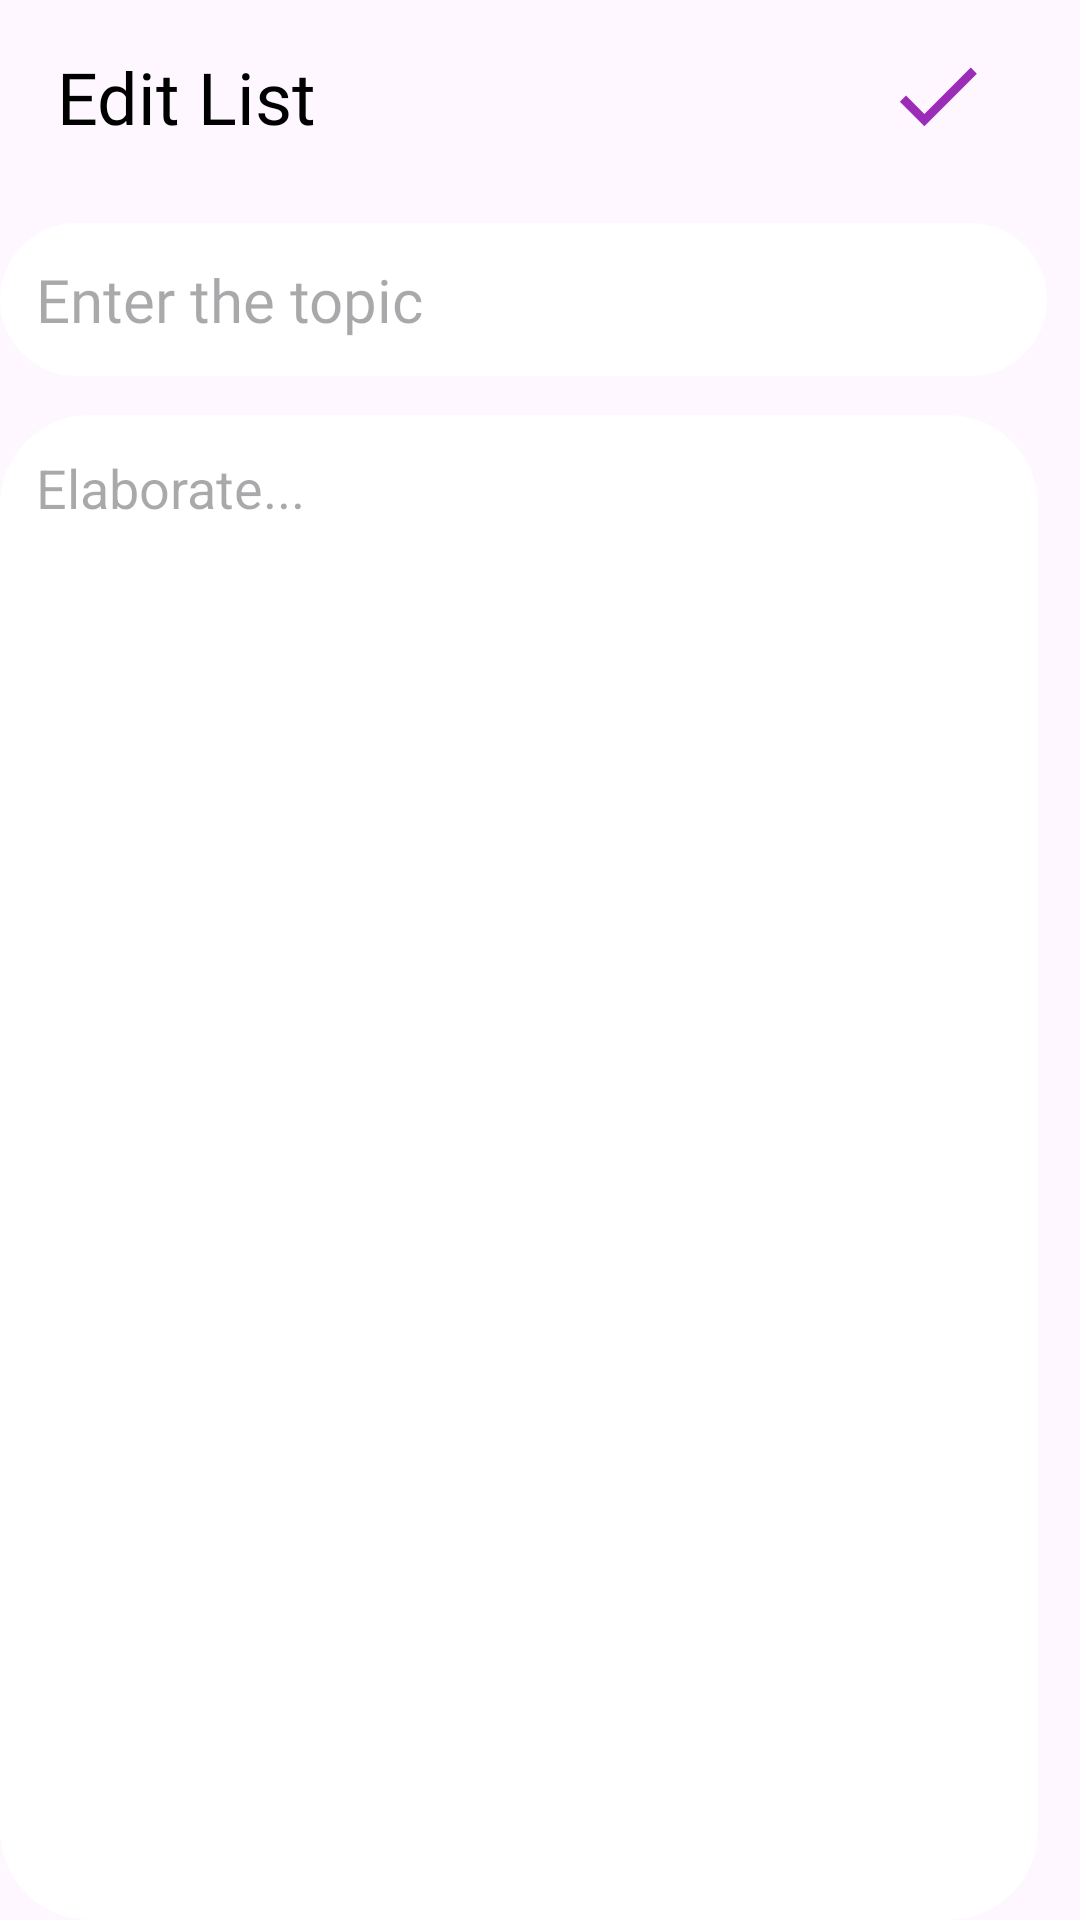

Where icons sit on this 1080x1920 app screen, as Rect(x1, y1, x2, y2):
done: Rect(900, 67, 977, 126)
